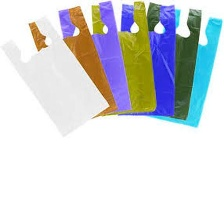plastic_bag: (0, 13, 113, 140), (20, 4, 120, 123), (145, 4, 224, 128), (53, 0, 135, 118), (133, 0, 205, 121), (89, 0, 159, 120), (112, 0, 179, 120)
